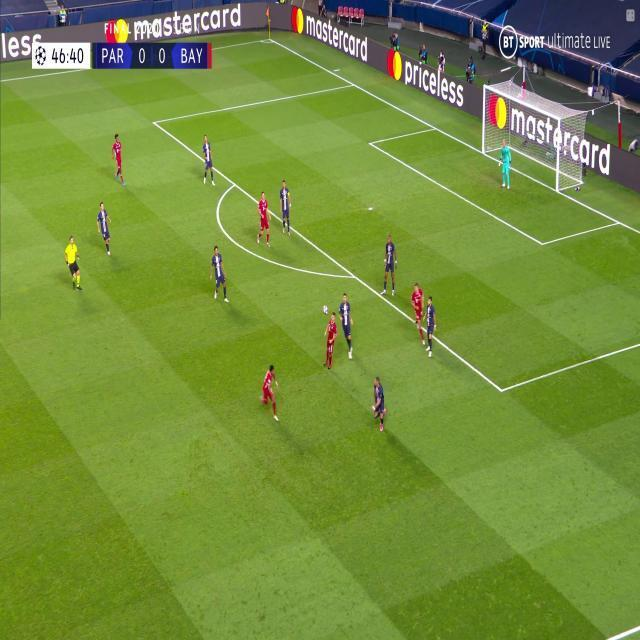ball: (323, 303, 328, 314)
goalkeeper: (498, 141, 512, 190)
player: (261, 362, 281, 421), (211, 245, 230, 303), (338, 293, 355, 357), (322, 311, 340, 371), (382, 234, 398, 299), (371, 375, 388, 432), (97, 200, 114, 255), (111, 133, 127, 186), (256, 191, 271, 247), (411, 282, 426, 338), (424, 294, 437, 358), (201, 135, 215, 187), (280, 180, 292, 237)
referee: (64, 234, 84, 291)
